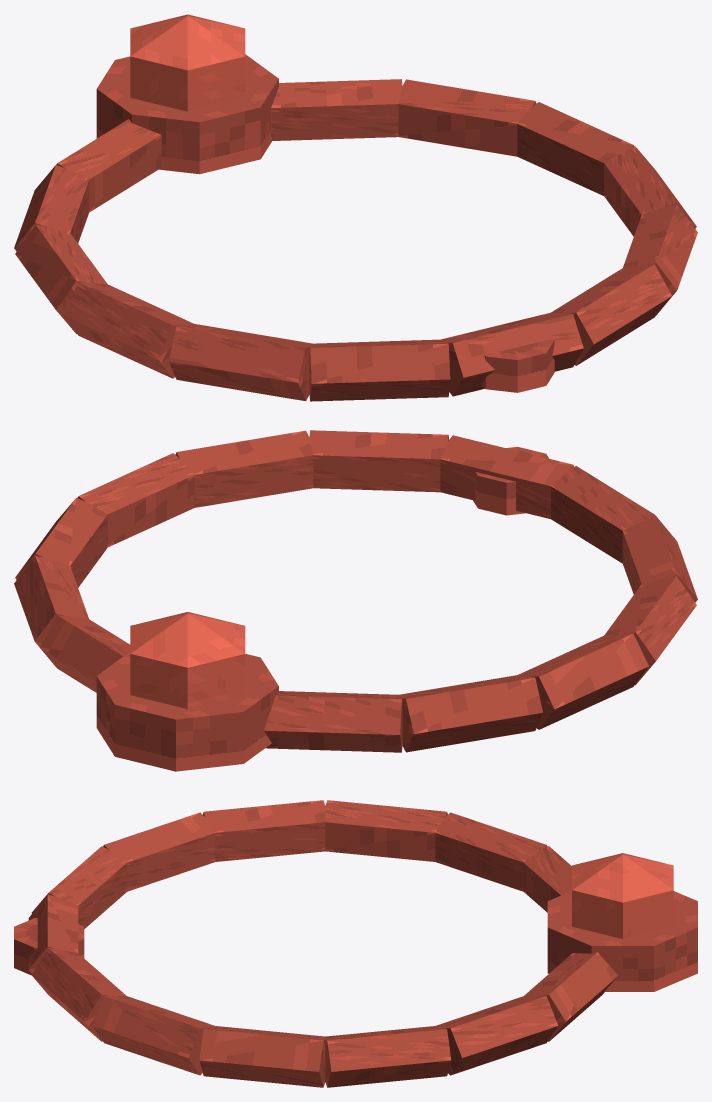
The model's file is bat_anklet.glb.
The picture shows the model from 3 angles, top to bottom: view 1: azimuth 30°, elevation 25°; view 2: azimuth 150°, elevation 25°; view 3: azimuth 270°, elevation 25°; orthographic projection. The views are drawn at different scales.
Parts seen in each view (by area): view 1: block_polished setting, block_faceted stone, block_bracelet band4, block_bracelet band5, block_bracelet band11, block_bracelet band12, block_bracelet band6, block_bracelet band13, block_bracelet band2, block_bracelet band3, block_bracelet band9, block_bracelet band7 (+4 smaller); view 2: block_polished setting, block_faceted stone, block_bracelet band8, block_bracelet band9, block_bracelet band2, block_bracelet band1, block_bracelet band7, block_bracelet band0, block_bracelet band3, block_bracelet band4, block_bracelet band6, block_bracelet band11 (+4 smaller); view 3: block_polished setting, block_faceted stone, block_bracelet band0, block_bracelet band13, block_bracelet band6, block_bracelet band7, block_bracelet band1, block_bracelet band12, block_bracelet band5, block_bracelet band8, block_bracelet band2, block_bracelet band11 (+4 smaller).
Boxes of the visible parts, box(x1,y1,x2,y2) form: block_polished setting: box(96, 54, 278, 174); block_faceted stone: box(130, 14, 245, 111); block_bracelet band4: box(309, 339, 450, 401); block_bracelet band5: box(169, 324, 312, 401); block_bracelet band11: box(271, 79, 402, 140); block_bracelet band12: box(398, 79, 536, 156); block_bracelet band6: box(63, 282, 193, 378); block_bracelet band13: box(517, 102, 634, 195); block_bracelet band2: box(551, 264, 671, 365); block_bracelet band3: box(441, 312, 583, 396); block_bracelet band9: box(56, 119, 160, 212); block_bracelet band7: box(15, 224, 107, 333); block_polished setting: box(96, 652, 278, 771); block_faceted stone: box(130, 612, 245, 708); block_bracelet band8: box(399, 675, 542, 752); block_bracelet band9: box(264, 691, 402, 752); block_bracelet band2: box(309, 430, 449, 492); block_bracelet band1: box(175, 430, 313, 507); block_bracelet band7: box(518, 633, 648, 729); block_bracelet band0: box(77, 453, 194, 547); block_bracelet band3: box(440, 435, 574, 518); block_bracelet band4: box(551, 466, 655, 563); block_bracelet band6: box(604, 576, 696, 685); block_bracelet band11: box(40, 615, 130, 692); block_polished setting: box(547, 891, 697, 991); block_faceted stone: box(572, 853, 673, 938); block_bracelet band0: box(199, 1026, 325, 1087); block_bracelet band13: box(325, 1026, 451, 1087); block_bracelet band6: box(203, 800, 325, 861); block_bracelet band7: box(325, 800, 447, 861); block_bracelet band1: box(92, 995, 214, 1075); block_bracelet band12: box(436, 995, 558, 1075); block_bracelet band5: box(103, 812, 215, 891); block_bracelet band8: box(435, 812, 547, 891); block_bracelet band2: box(31, 948, 126, 1041); block_bracelet band11: box(524, 952, 618, 1041).
Bounding box in the file's own units: 0.0382 × 0.00786 × 0.0431.
1 material, 1 textured.
